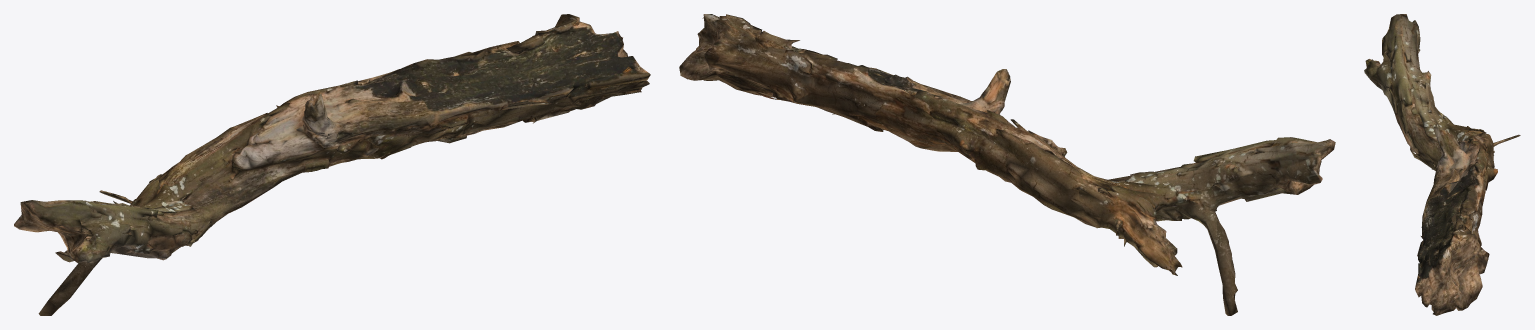
The model's file is dead_tree_trunk_02.glb.
3 renders of one model, left to right at view 1: azimuth 30°, elevation 25°; view 2: azimuth 150°, elevation 25°; view 3: azimuth 270°, elevation 25°, orthographic. The views are drawn at different scales.
Parts seen in each view (by area): view 1: dead_tree_trunk_02_LOD0; view 2: dead_tree_trunk_02_LOD0; view 3: dead_tree_trunk_02_LOD0.
Part boxes in pixels (box(x1,y1,x2,y2)): dead_tree_trunk_02_LOD0: box(14, 14, 650, 315); dead_tree_trunk_02_LOD0: box(679, 14, 1335, 315); dead_tree_trunk_02_LOD0: box(1364, 14, 1520, 315).
Size of what is drawn, in the model's own units: 4.05 by 1.05 by 1.05.
Materials: 1 (1 with a texture image).
